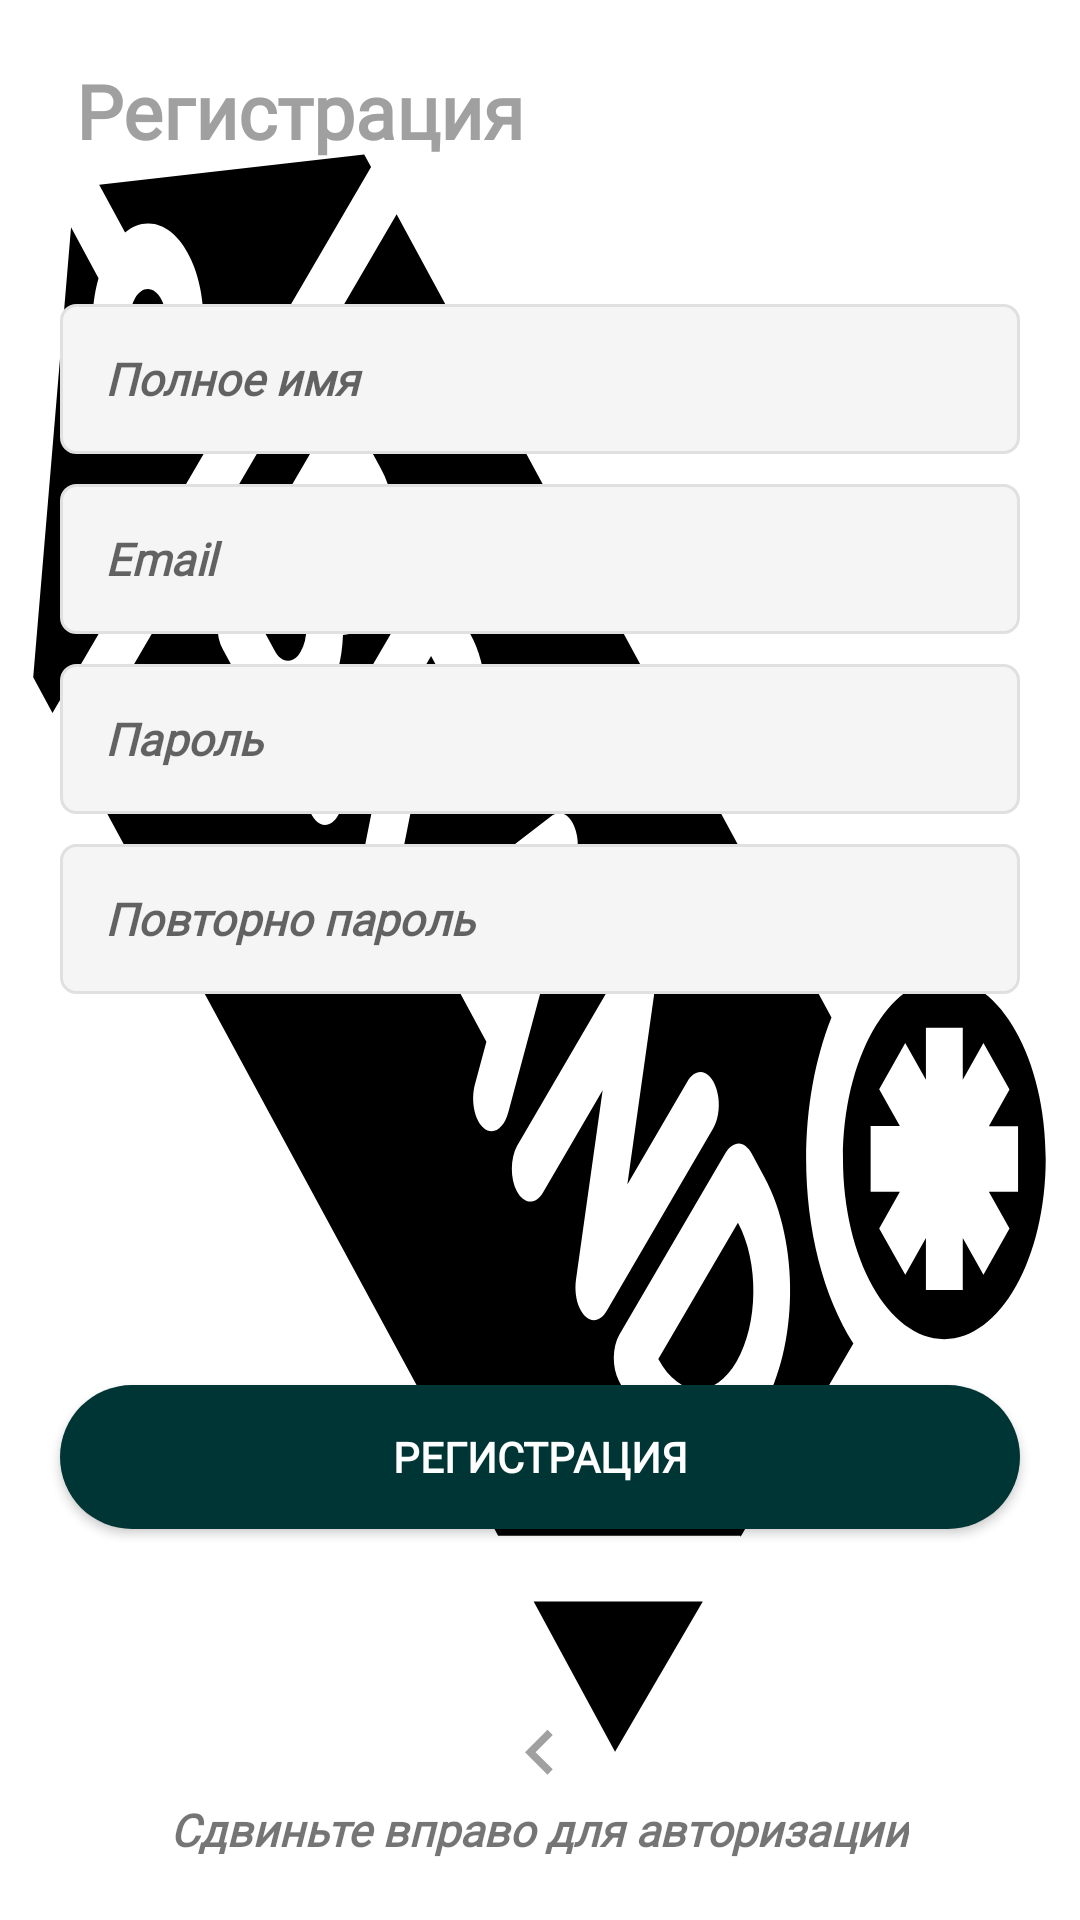

Locate icon controls on the screen. Image size 1080px×1920px, boxes as rect(x1, y1, x2, y2).
arrow left: rect(525, 1730, 553, 1775)
